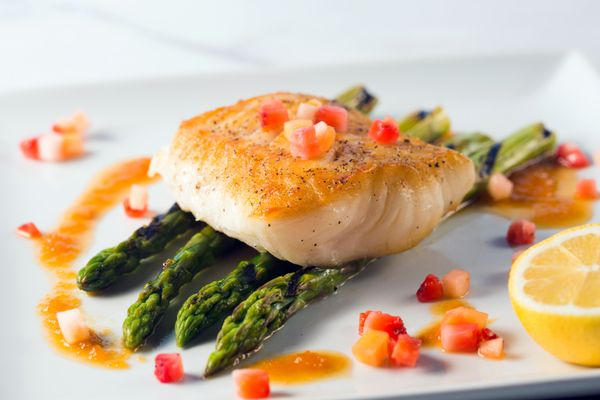soup: (73, 89, 497, 376)
taco: (508, 222, 600, 367)
